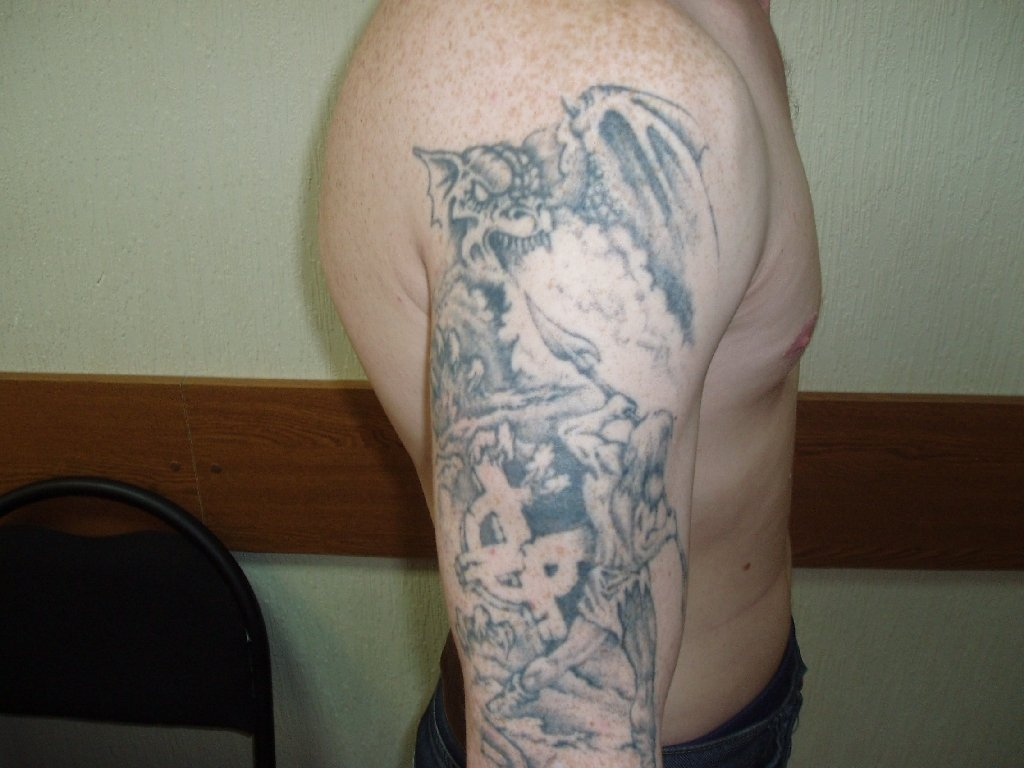tatu6_drakon: (377, 40, 748, 754)
